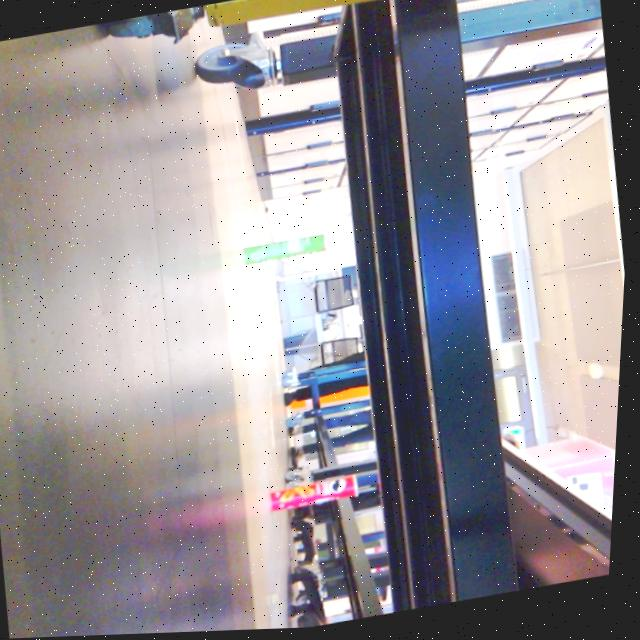greenpringles: (237, 224, 344, 280)
redpringles: (252, 458, 380, 532)
